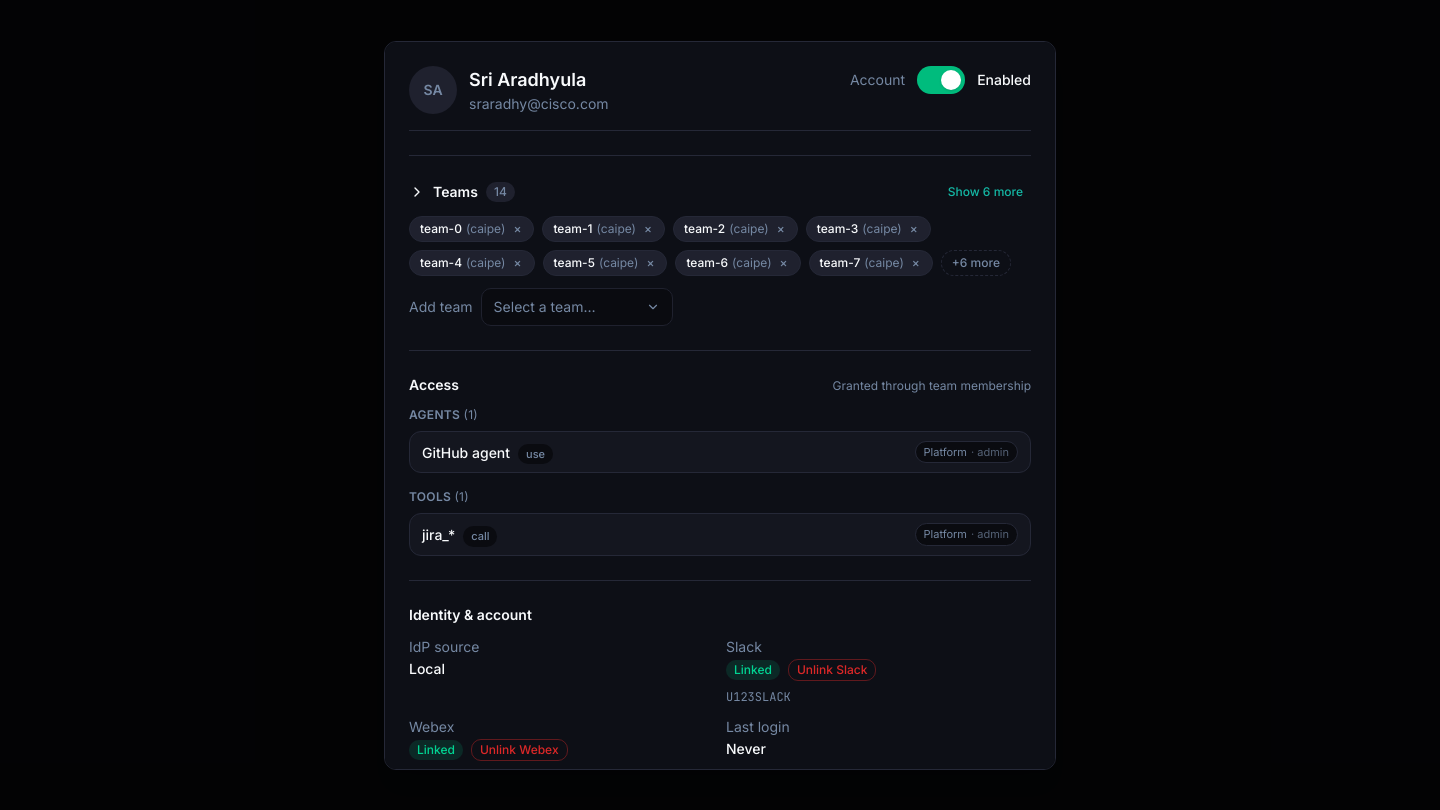
Test: UserDetailModal › collapses long team memberships behind a Show more toggle
The width and height of the screenshot is (1440, 810).
Check: the text "team-0" is shown, box left=420, top=220, right=462, bottom=236
Check: the text "team-7" is shown, box left=820, top=254, right=860, bottom=270
Click the button "Show 6 more" at (985, 192), box left=940, top=180, right=1031, bottom=204
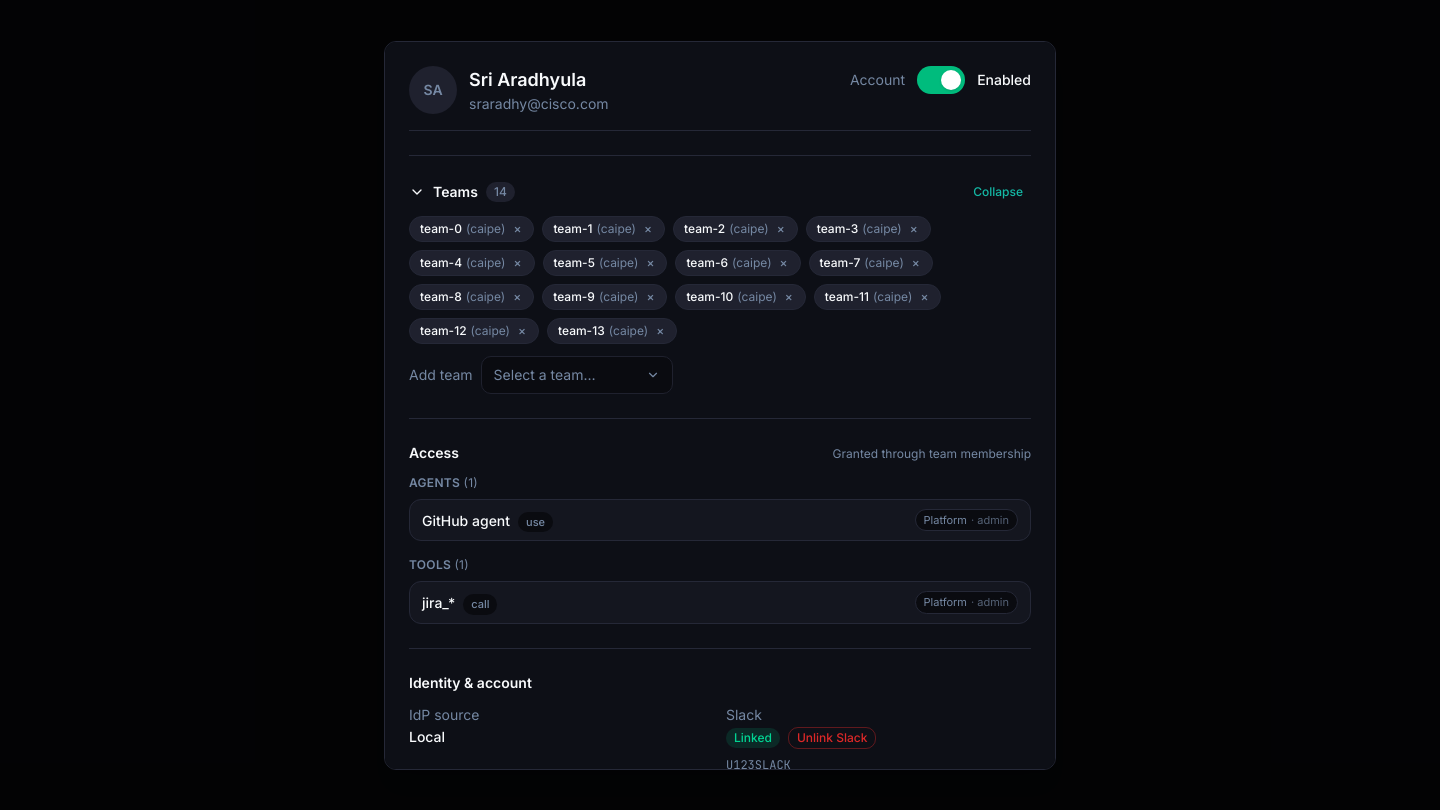
Check: the text "team-13" is shown, box left=558, top=322, right=605, bottom=338
Click the button "Collapse" at (998, 192), box left=965, top=180, right=1031, bottom=204
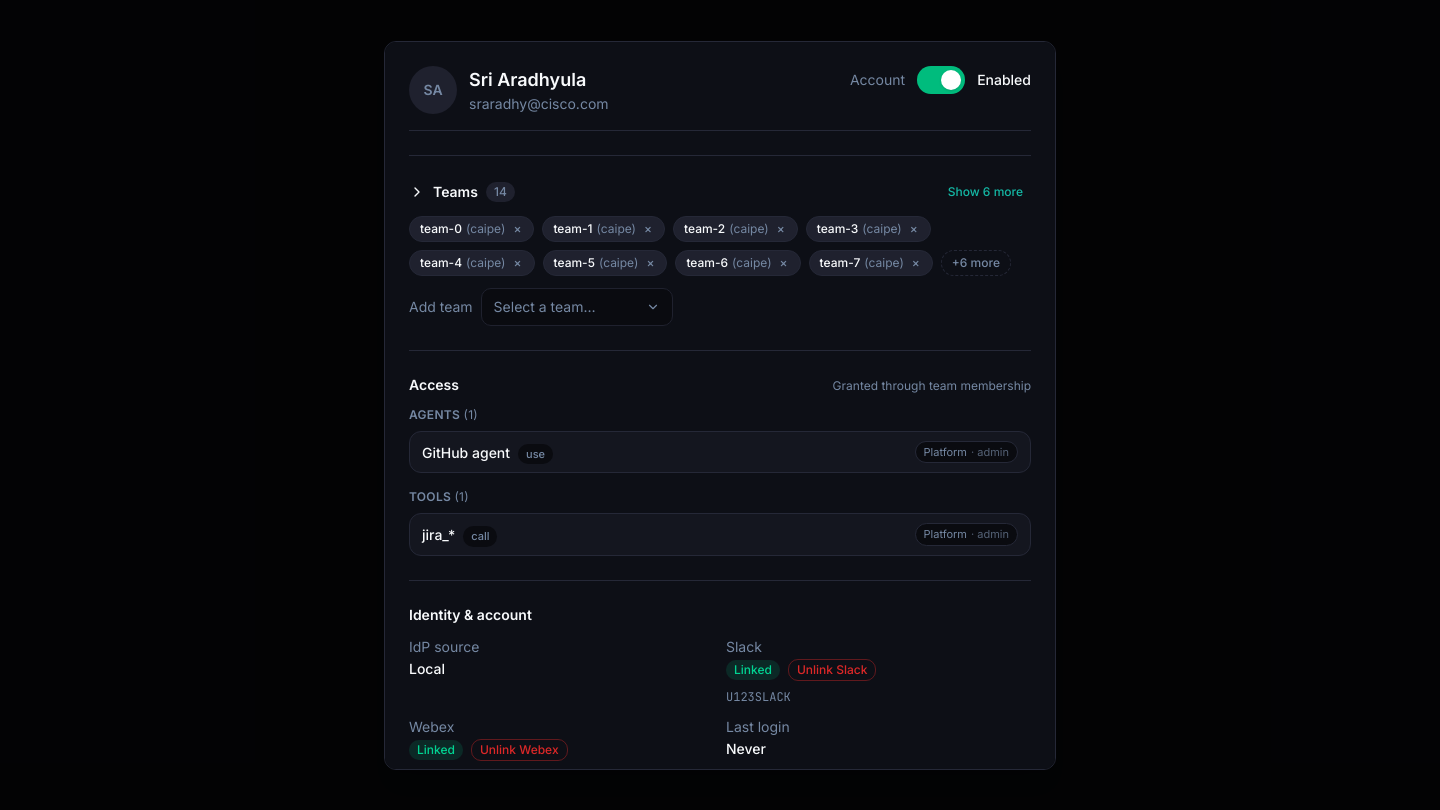
Check: the text "team-8" is gone
